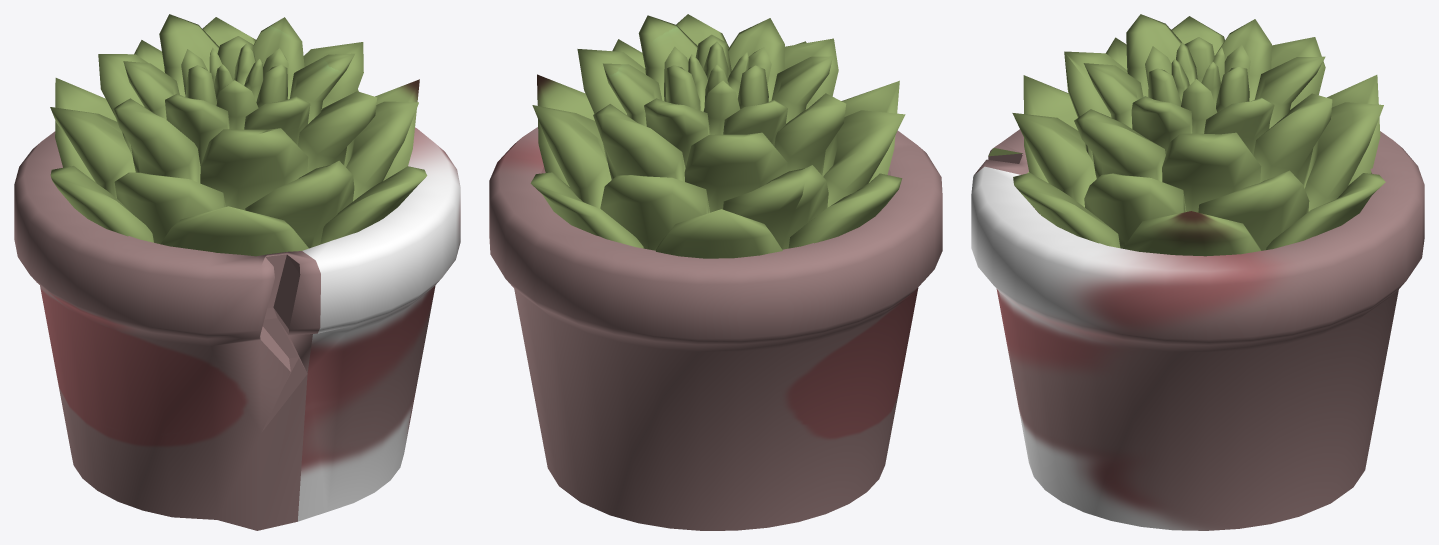
Rendered from MOD_Roosplant_V1.fbx.
3 views of the same model, side by side, from view 1: azimuth 30°, elevation 25°; view 2: azimuth 150°, elevation 25°; view 3: azimuth 270°, elevation 25° (orthographic).
Parts seen in each view (by area): view 1: Cylinder.003; view 2: Cylinder.003; view 3: Cylinder.003.
Part boxes in pixels (box(x1,y1,x2,y2)): Cylinder.003: box(14, 14, 460, 530); Cylinder.003: box(489, 14, 942, 530); Cylinder.003: box(971, 14, 1424, 530).
Size of the model in its own units: 158 by 160 by 158.
